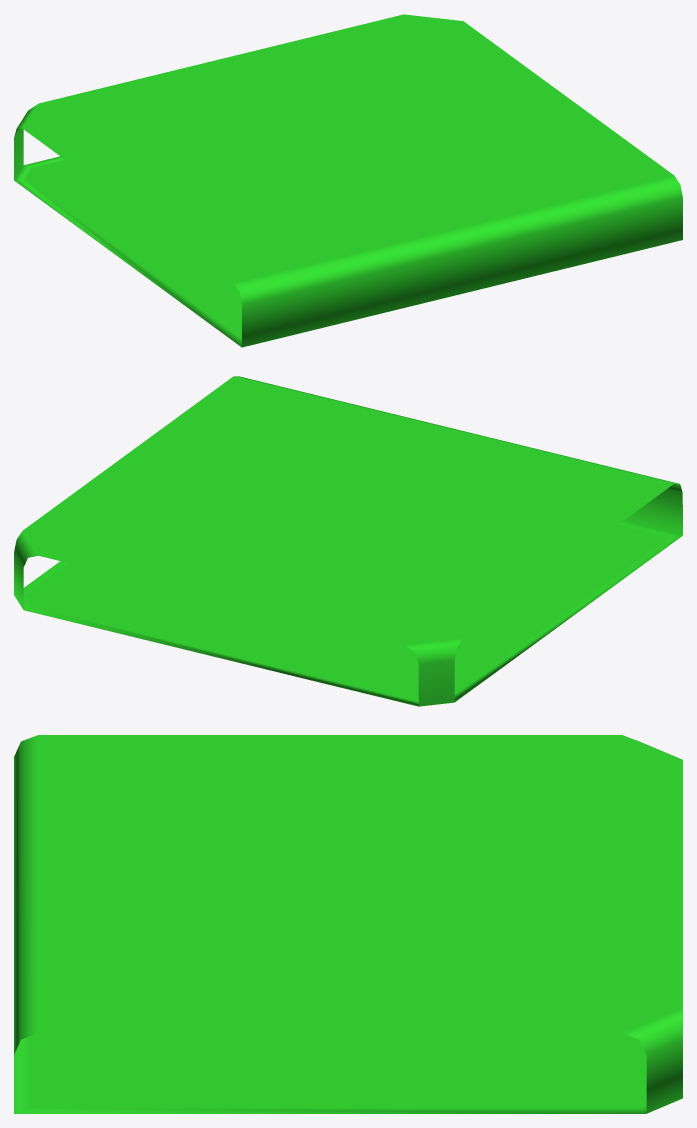
The model's file is ContainerLidEnd.fbx.
3 views of the same model, one above another, from view 1: azimuth 30°, elevation 25°; view 2: azimuth 150°, elevation 25°; view 3: azimuth 270°, elevation 25° (orthographic). The views are drawn at different scales.
Visible parts, largest first — view 1: ContainerLidEnd; view 2: ContainerLidEnd; view 3: ContainerLidEnd.
Boxes of the visible parts, x1=… form: ContainerLidEnd: x1=14, y1=14, x2=682, y2=347; ContainerLidEnd: x1=14, y1=376, x2=682, y2=706; ContainerLidEnd: x1=14, y1=735, x2=682, y2=1113.
Size of the model in its own units: 50.03 by 6.3 by 47.41.
